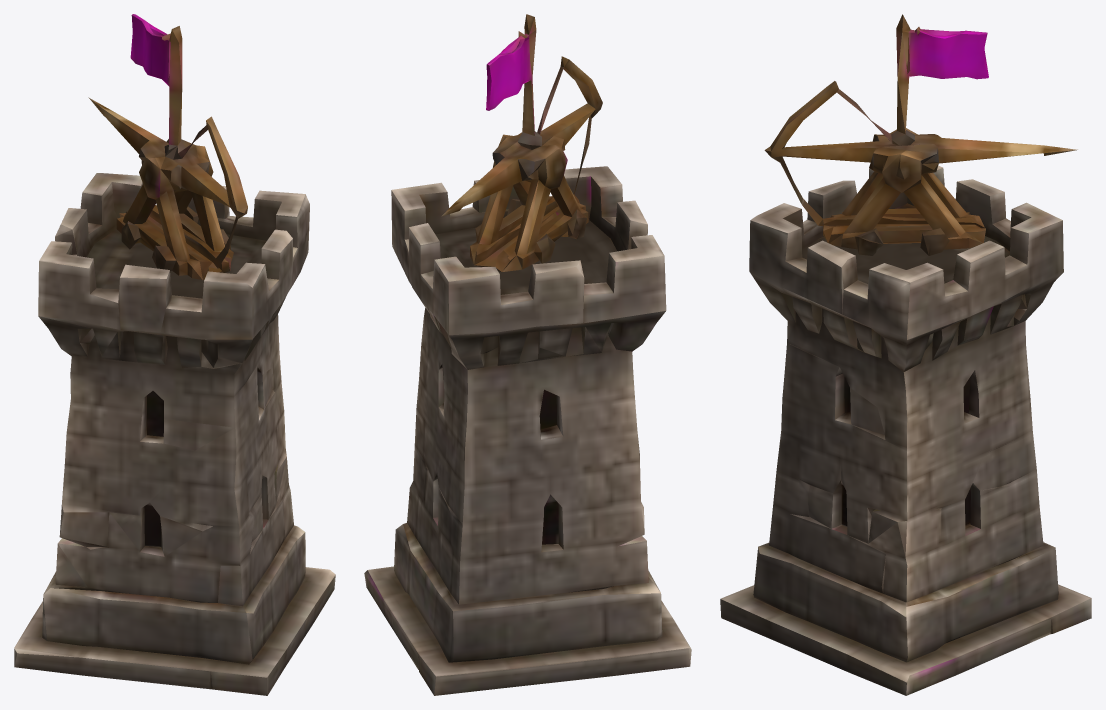
File: tower2.lod2.glb
3 views of the same model, side by side, from view 1: azimuth 30°, elevation 25°; view 2: azimuth 150°, elevation 25°; view 3: azimuth 270°, elevation 25° (orthographic).
Visible parts, largest first — view 1: tower2.lod2_uv; view 2: tower2.lod2_uv; view 3: tower2.lod2_uv.
Part boxes in pixels (bbox=[...]): tower2.lod2_uv: bbox=[14, 14, 335, 695]; tower2.lod2_uv: bbox=[364, 14, 691, 695]; tower2.lod2_uv: bbox=[720, 14, 1091, 695].
Size of the model in its own units: 1.06 by 1.9 by 1.06.
Materials: 1 (1 with a texture image).
